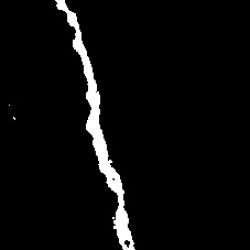crack: (53, 2, 136, 249)
